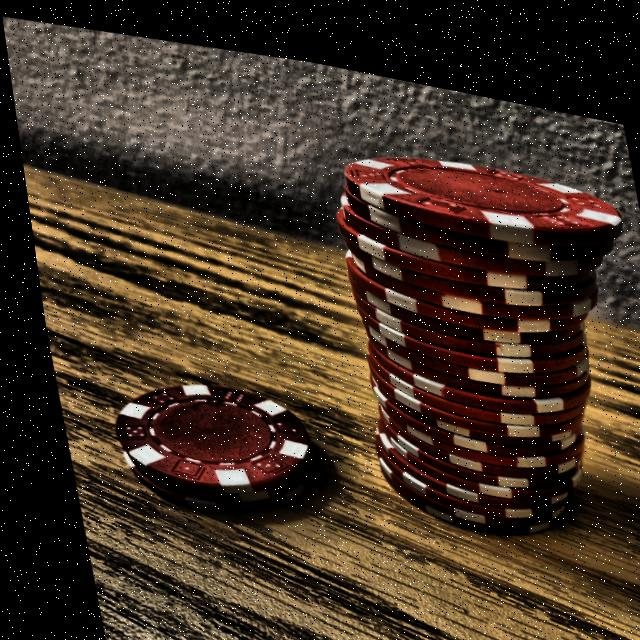Chip: (249, 59, 640, 602), (82, 318, 350, 559)
